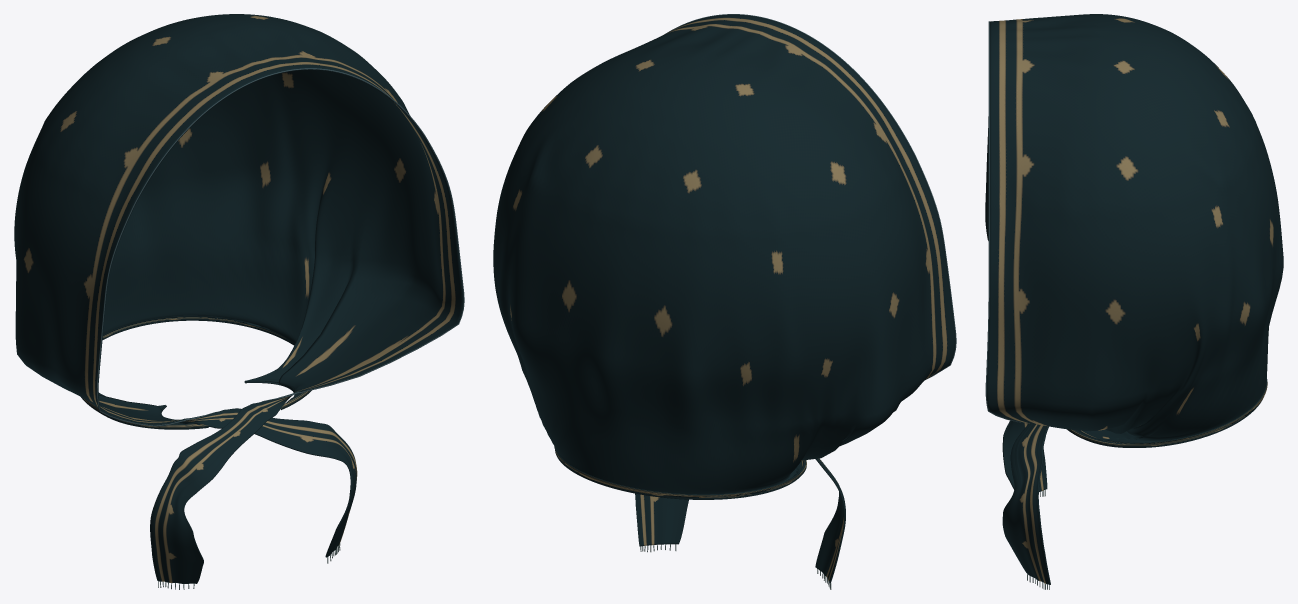
File: Feminine-tshirt-volume-pashmina248-headgear.glb
3 views of the same model, side by side, from view 1: azimuth 30°, elevation 25°; view 2: azimuth 150°, elevation 25°; view 3: azimuth 270°, elevation 25° (orthographic). The views are drawn at different scales.
Parts seen in each view (by area): view 1: 226 headgear / Headwear / continuous woven pashmina239, 226 headgear / Headwear / face edge239; view 2: 226 headgear / Headwear / continuous woven pashmina239, 226 headgear / Headwear / face edge239; view 3: 226 headgear / Headwear / continuous woven pashmina239, 226 headgear / Headwear / face edge239.
Part boxes in pixels (<box>): 226 headgear / Headwear / continuous woven pashmina239: <box>14,14,463,583</box>; 226 headgear / Headwear / face edge239: <box>96,68,464,426</box>; 226 headgear / Headwear / continuous woven pashmina239: <box>493,14,955,583</box>; 226 headgear / Headwear / face edge239: <box>664,14,956,379</box>; 226 headgear / Headwear / continuous woven pashmina239: <box>985,14,1283,584</box>; 226 headgear / Headwear / face edge239: <box>985,21,1026,423</box>.
Bounding box in the file's own units: 1.02 × 1.35 × 0.7113.
3 materials, 1 textured.
